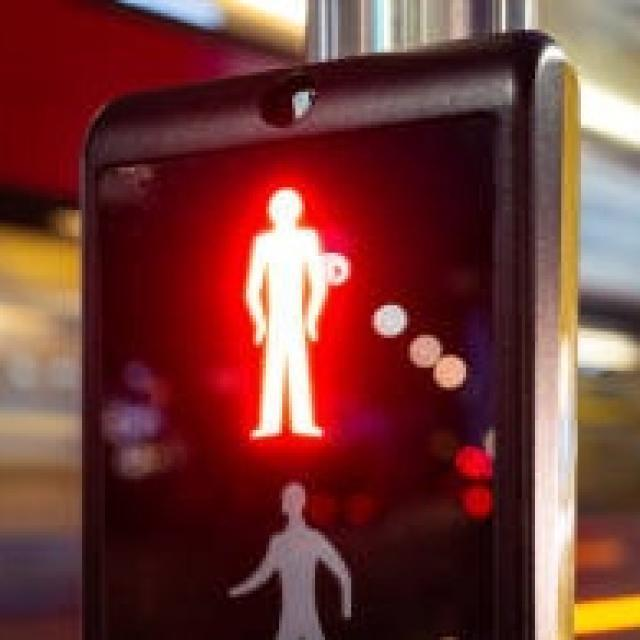red-crossing: (200, 160, 374, 447)
